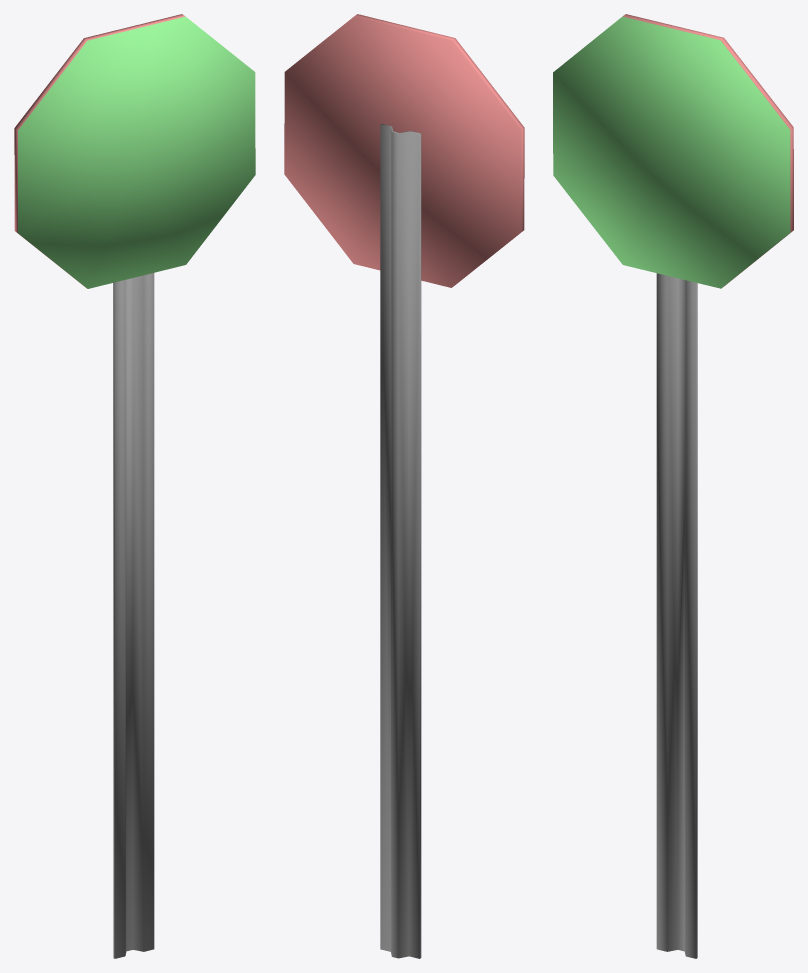
The model's file is SM_Stop_Sign_1.gltf.
3 renders of one model, left to right at view 1: azimuth 30°, elevation 25°; view 2: azimuth 150°, elevation 25°; view 3: azimuth 330°, elevation 25°, orthographic.
Visible parts, largest first — view 1: SM_Stop_Sign_1; view 2: SM_Stop_Sign_1; view 3: SM_Stop_Sign_1.
Part boxes in pixels (x1=…): SM_Stop_Sign_1: x1=14, y1=14, x2=255, y2=958; SM_Stop_Sign_1: x1=284, y1=14, x2=524, y2=958; SM_Stop_Sign_1: x1=553, y1=14, x2=793, y2=958.
Bounding box in the file's own units: 0.7429 × 2.77 × 0.0527.
